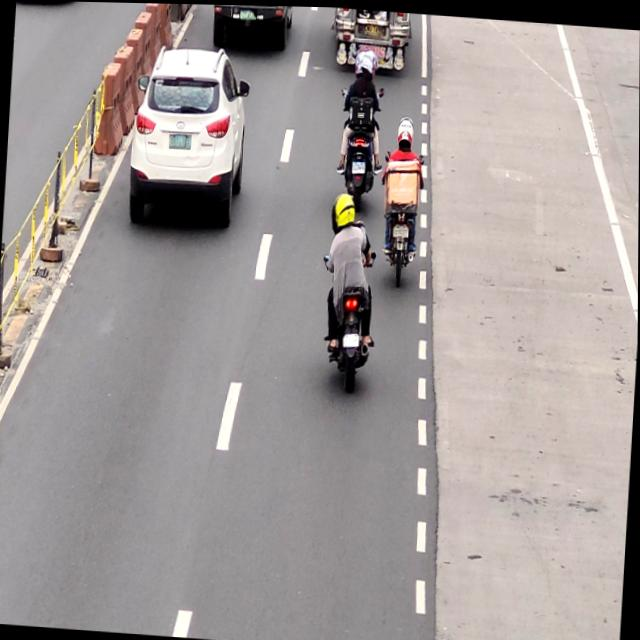Car: (128, 42, 249, 228)
Jeep: (334, 6, 413, 64)
License-Plate: (168, 132, 193, 152), (392, 221, 412, 239), (362, 20, 385, 34), (342, 332, 361, 345), (239, 6, 257, 19), (352, 160, 367, 173)
Motorcycle: (317, 191, 379, 399), (382, 111, 422, 283), (339, 53, 382, 190)
